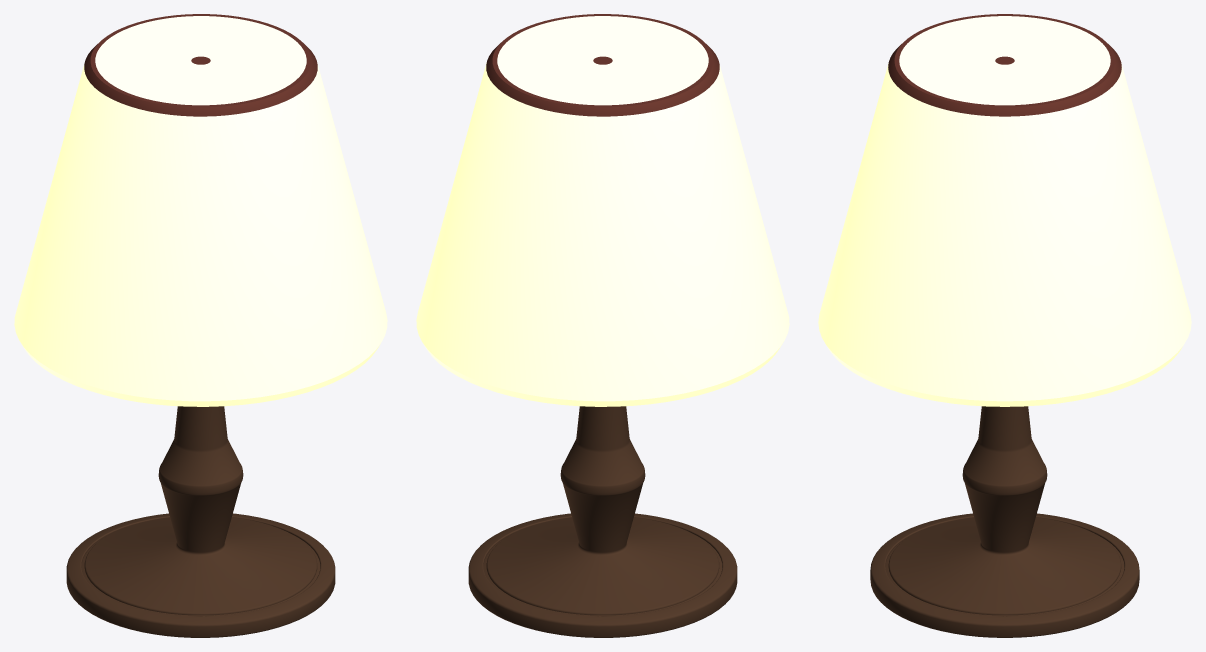
File: fire.fbx
The picture shows the model from 3 angles, left to right: view 1: azimuth 30°, elevation 25°; view 2: azimuth 150°, elevation 25°; view 3: azimuth 270°, elevation 25°; orthographic projection.
Visible parts, largest first — view 1: Cylinder.009; view 2: Cylinder.009; view 3: Cylinder.009.
Boxes of the visible parts, <box> form: Cylinder.009: <box>14,14,387,637</box>; Cylinder.009: <box>416,14,789,637</box>; Cylinder.009: <box>818,14,1191,637</box>.
Bounding box in the file's own units: 436 × 672 × 436.
